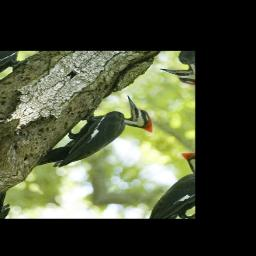Woodpecker: (30, 88, 165, 196)
